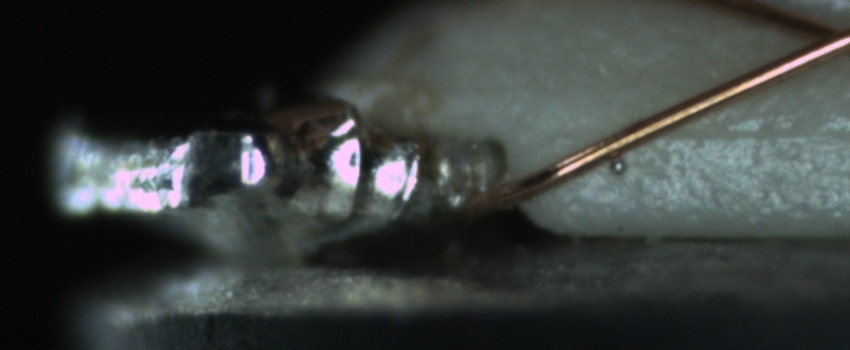CL: (779, 3, 849, 67)
DL: (635, 101, 849, 165)
